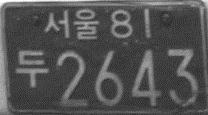1: (137, 7, 157, 38)
2: (55, 50, 87, 108)
3: (167, 47, 197, 107)
4: (130, 49, 160, 107)
6: (94, 48, 124, 106)
8: (109, 9, 133, 39)
두: (15, 49, 48, 89)
서울_O: (43, 8, 99, 40)
